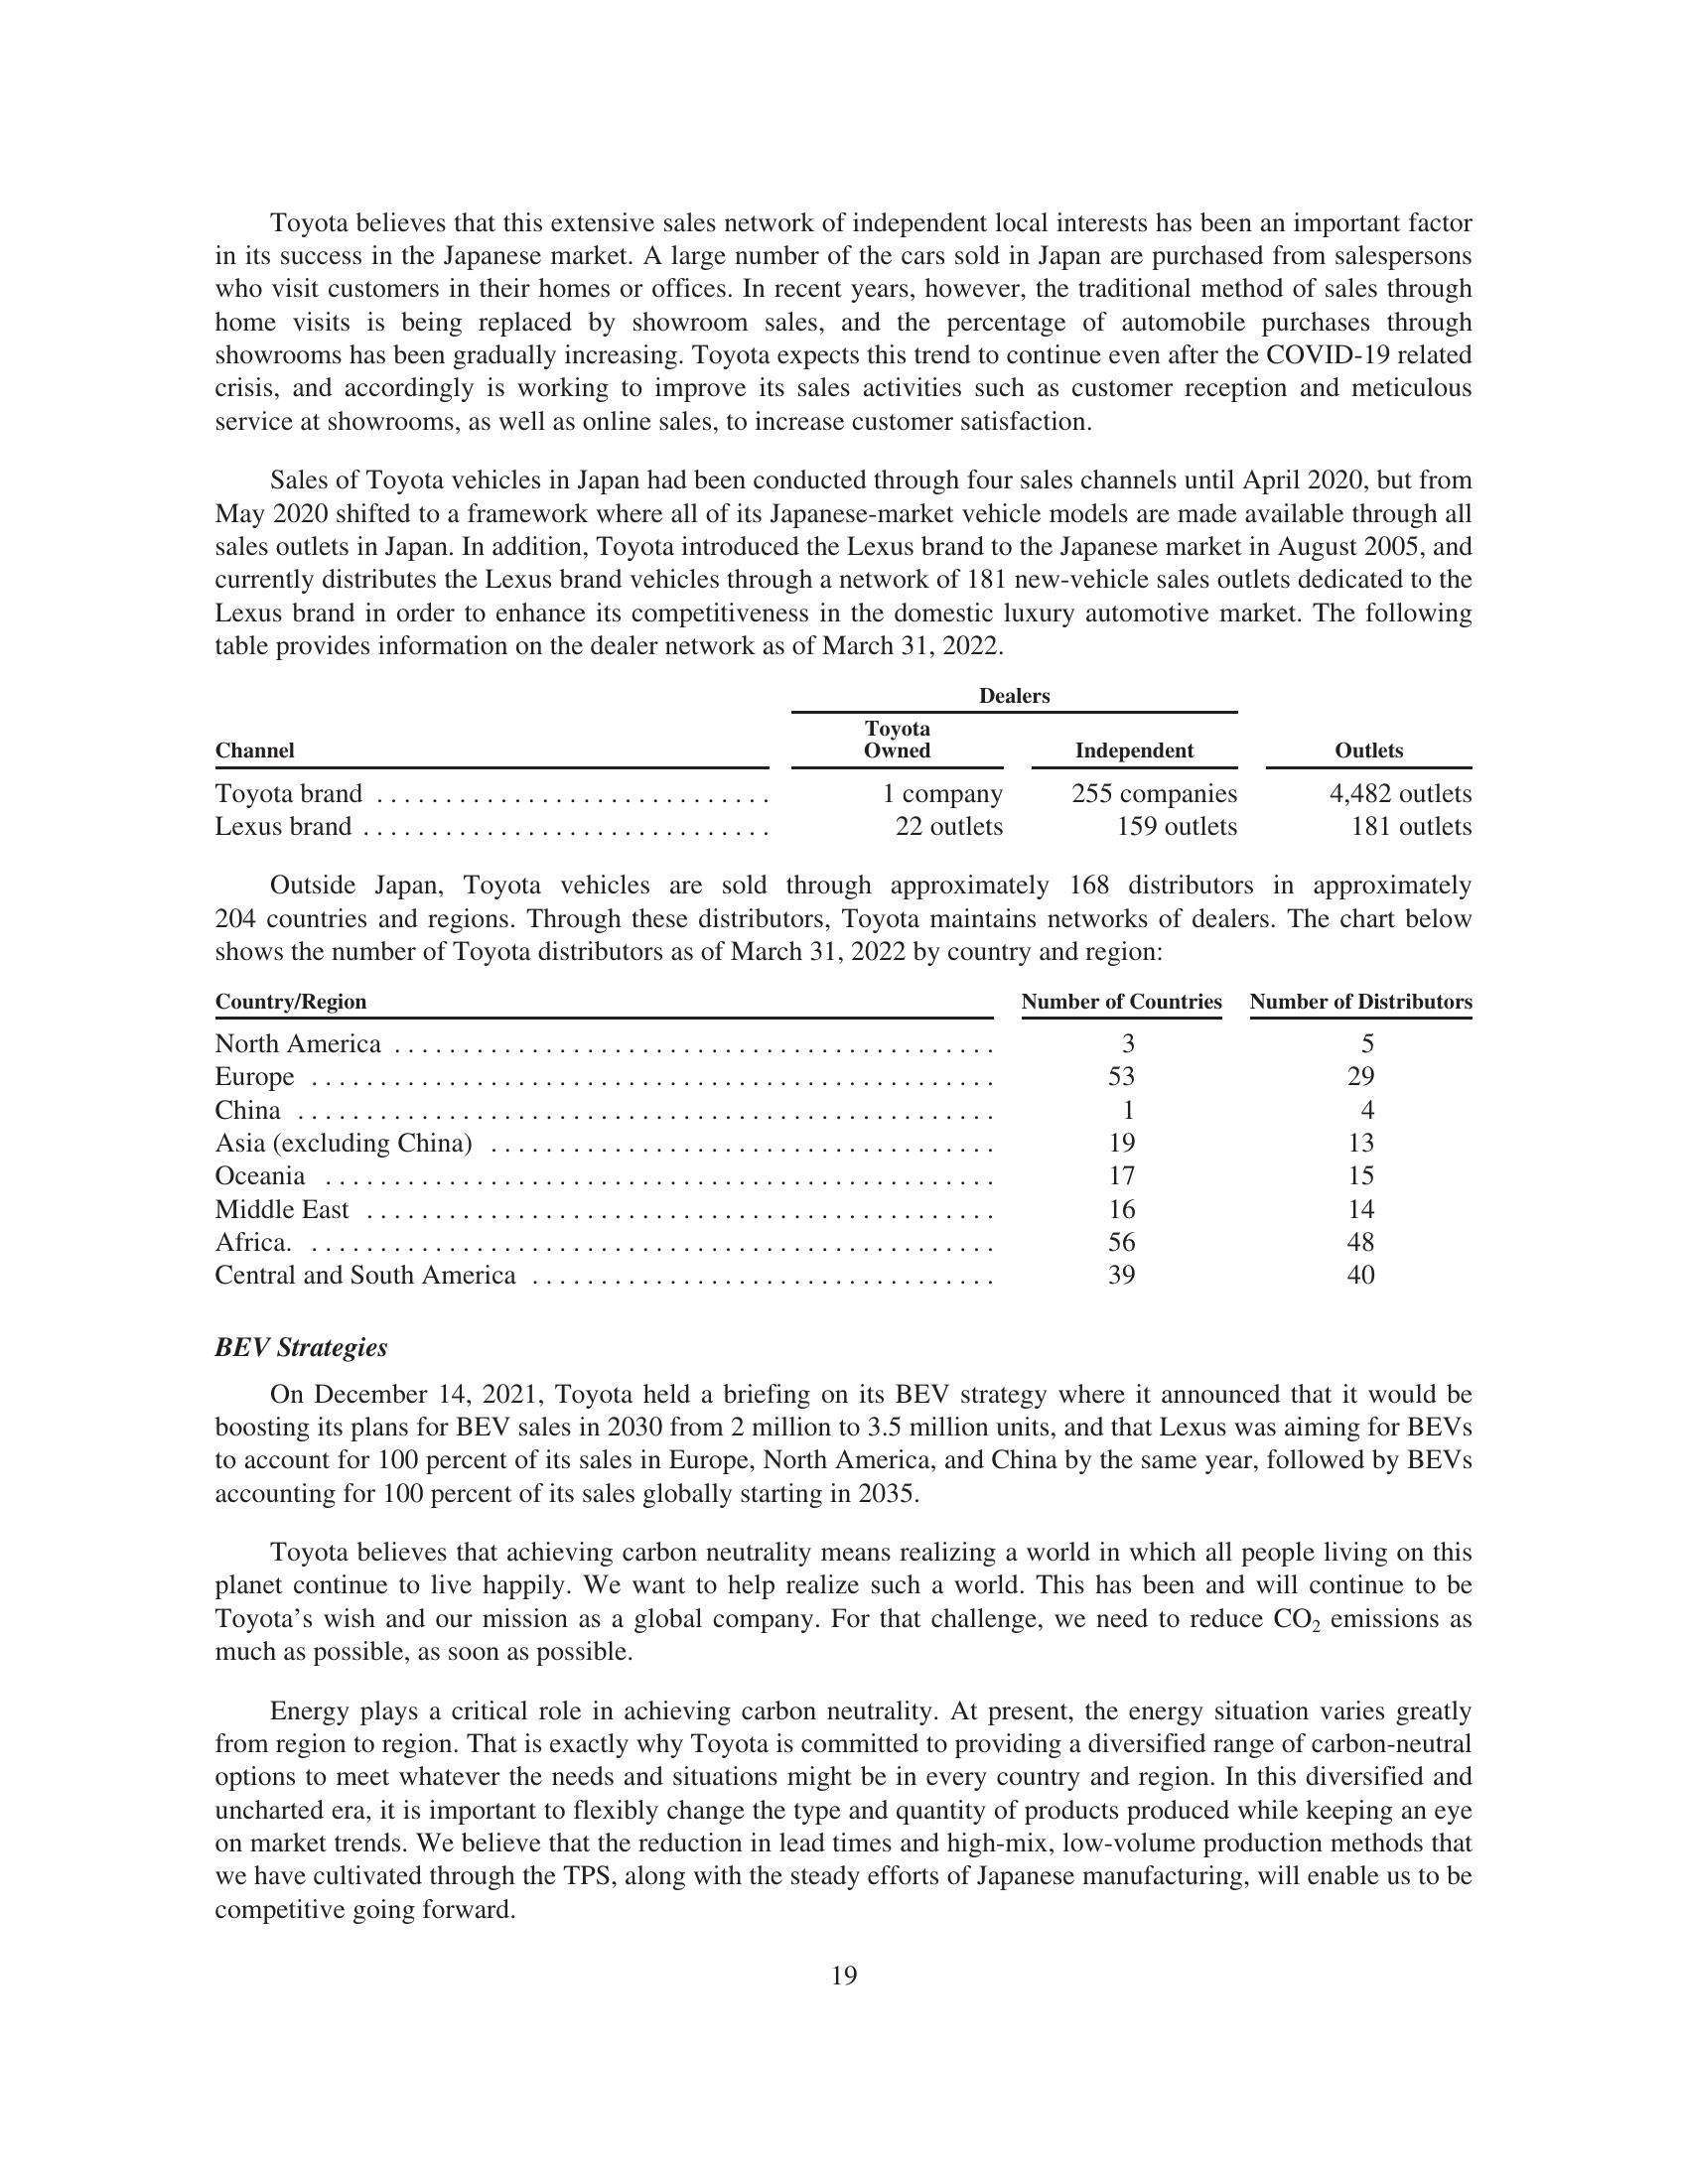Footer: (0, 1950, 1688, 2184)
Header: (0, 0, 1688, 179)
Table: (151, 966, 1525, 1324), (145, 677, 1518, 842)
